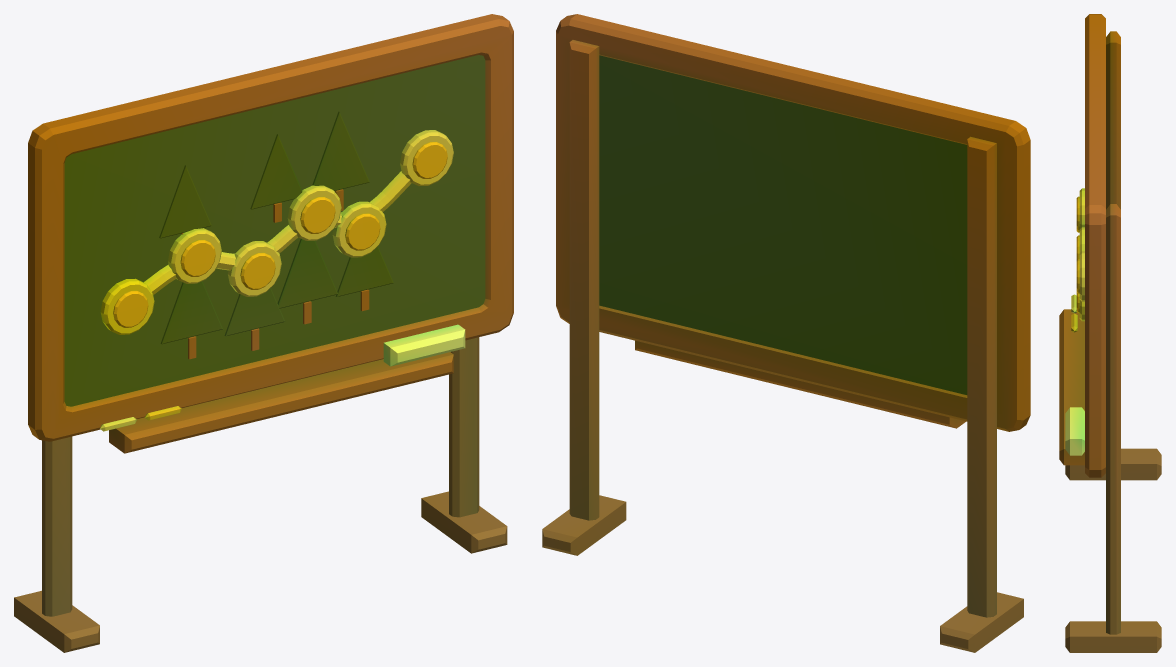
Rendered from Prop_RouteBoard.fbx.
3 views of the same model, side by side, from view 1: azimuth 30°, elevation 25°; view 2: azimuth 150°, elevation 25°; view 3: azimuth 270°, elevation 25° (orthographic). The views are drawn at different scales.
Parts seen in each view (by area): view 1: Prop_RouteBoard; view 2: Prop_RouteBoard; view 3: Prop_RouteBoard.
Boxes of the visible parts, <box> form: Prop_RouteBoard: <box>14,14,513,652</box>; Prop_RouteBoard: <box>542,14,1030,652</box>; Prop_RouteBoard: <box>1059,14,1161,652</box>.
Bounding box in the file's own units: 1.6 × 1.65 × 0.34.
